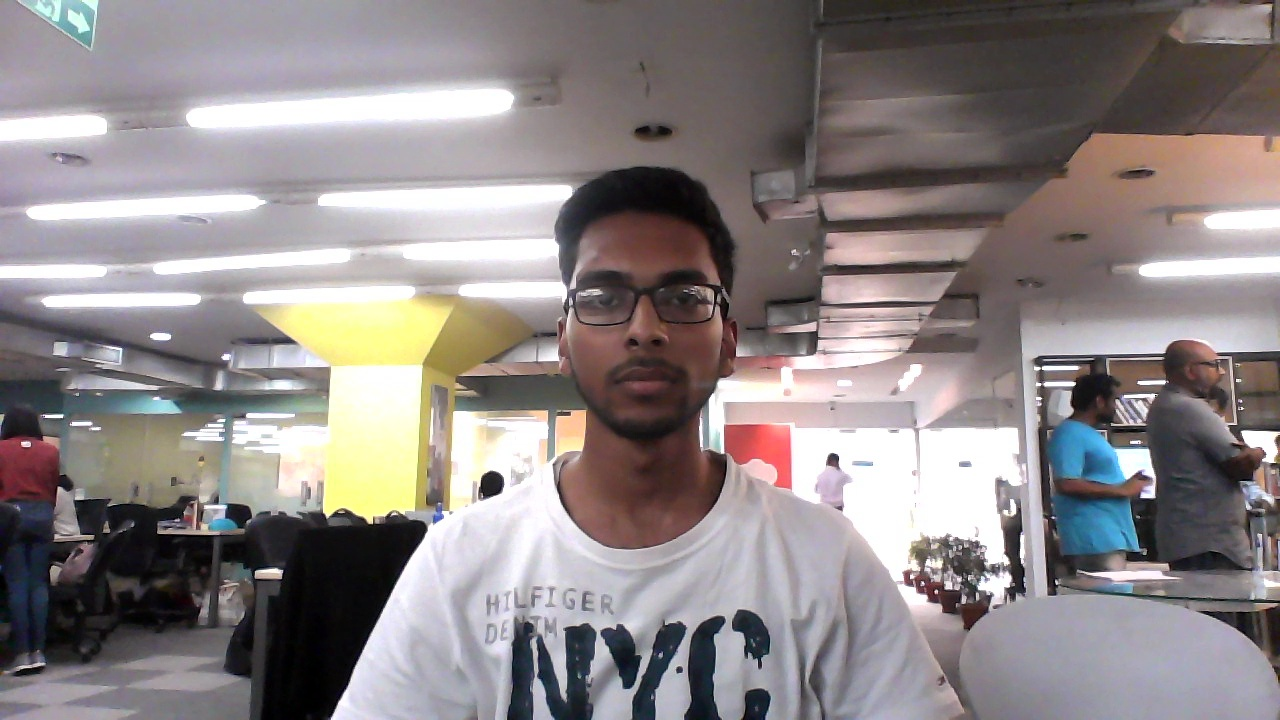open: (556, 160, 755, 436)
